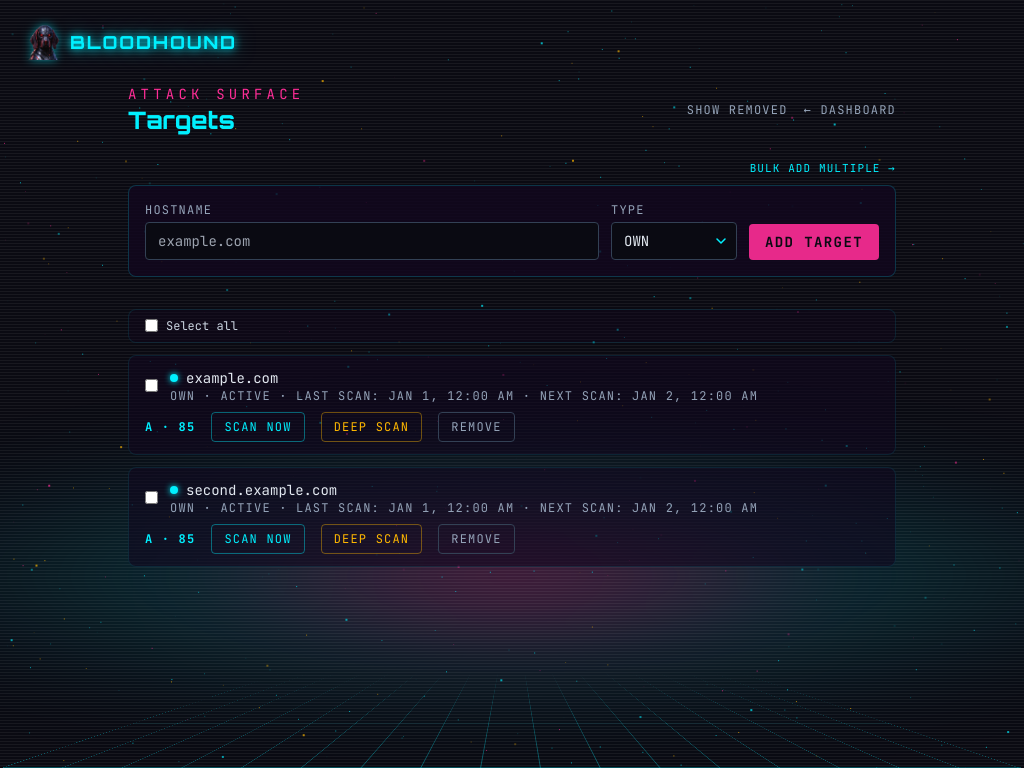
Test: TargetsPage - bulk scan selection › 'Select all' selects every visible active target, and toggling it again clears them
Expected: the link "example.com" is shown, [170, 368, 278, 386]
Click the checkbox named "select all visible targets" at (152, 326), box [145, 319, 158, 332]
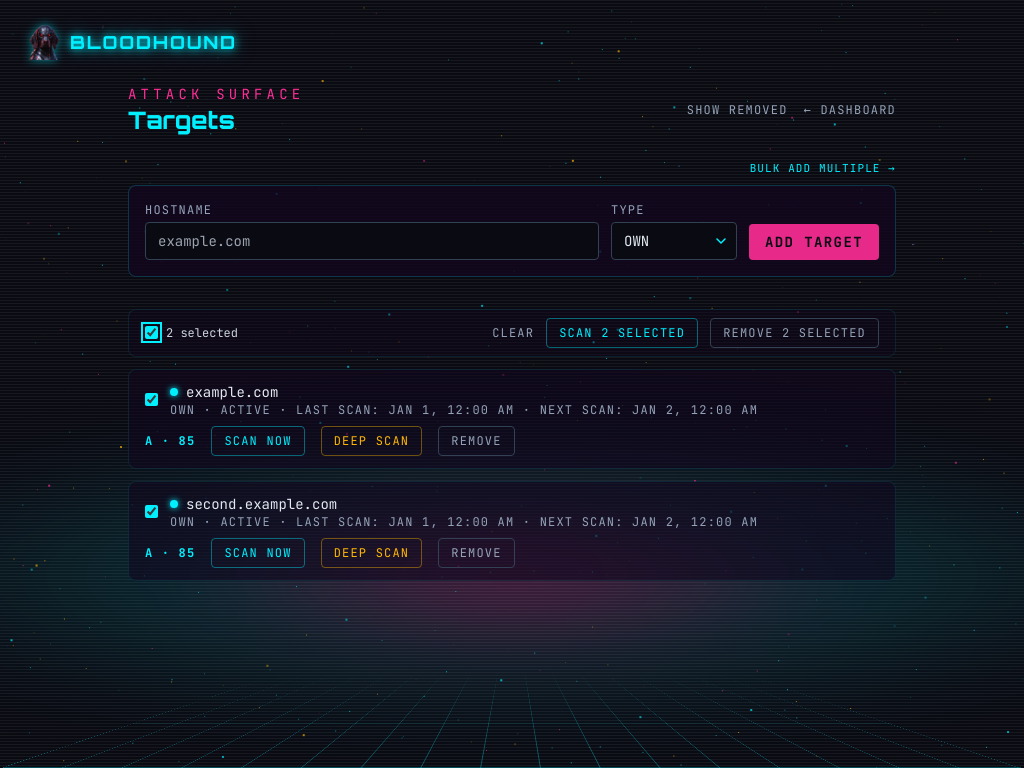
Now the text "2 selected" is shown, box [145, 324, 238, 340]
Now the checkbox named "Select example.com" is checked, box [145, 393, 158, 406]
Now the checkbox named "Select second.example.com" is checked, box [145, 505, 158, 518]
Click the checkbox named "select all visible targets" at (152, 332), box [145, 326, 158, 339]
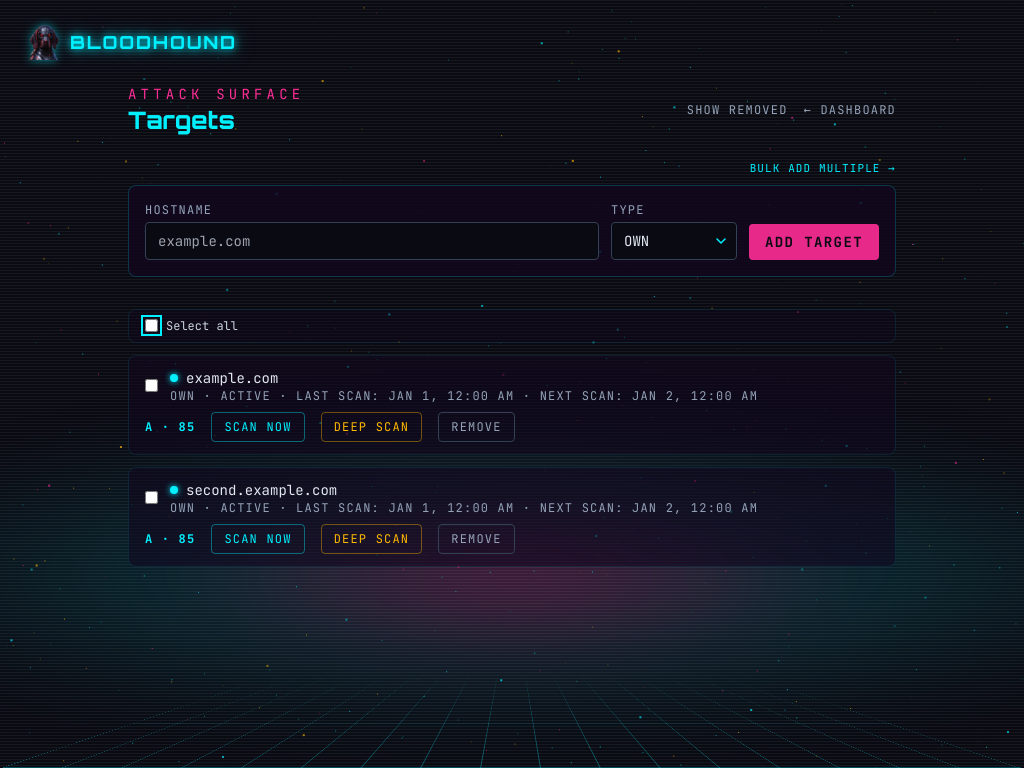
Now the text "selected" is gone
